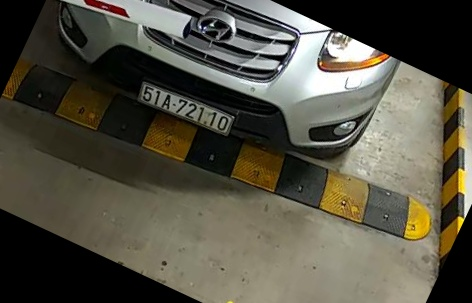plate: (138, 72, 234, 139)
